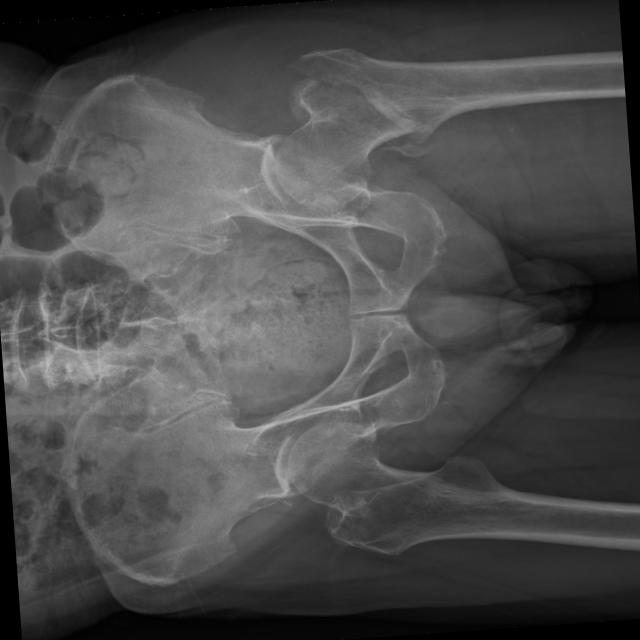left-intertrochanteric: (287, 47, 500, 142), (274, 77, 417, 207)
left-lesser-trochanter: (380, 140, 433, 156)
normal-right: (287, 420, 568, 554)
